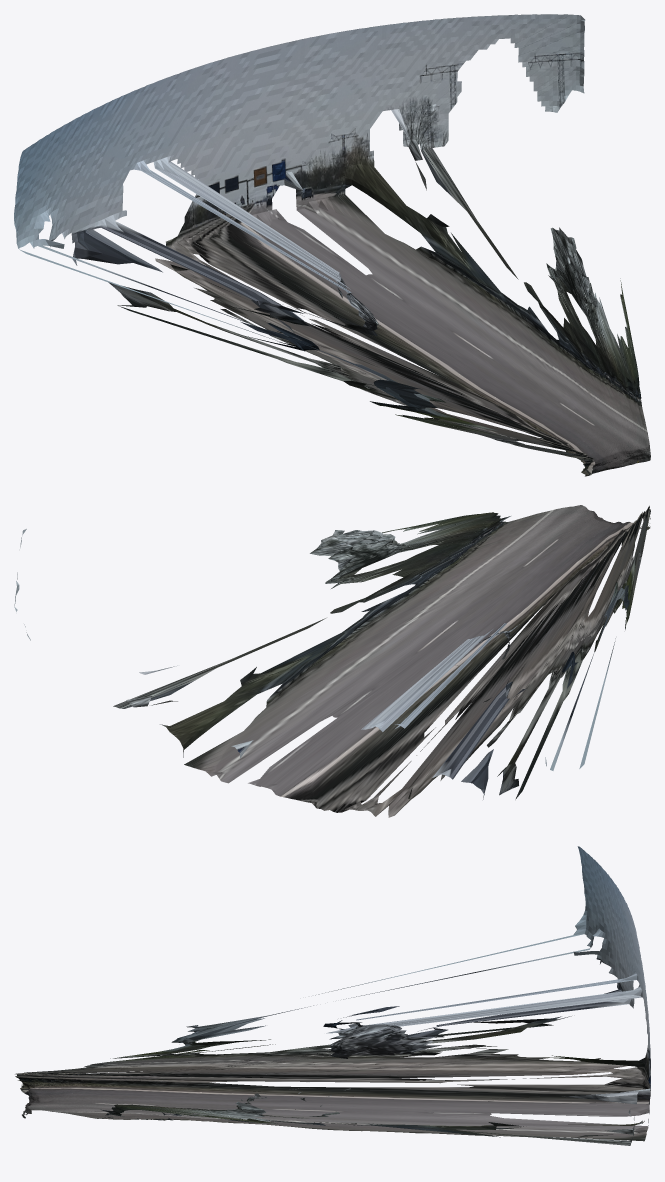
3 renders of one model, top to bottom at view 1: azimuth 30°, elevation 25°; view 2: azimuth 150°, elevation 25°; view 3: azimuth 270°, elevation 25°, orthographic. The views are drawn at different scales.
Parts seen in each view (by area): view 1: defaultobject; view 2: defaultobject; view 3: defaultobject.
Part boxes in pixels (x1,y1,x2,y2): defaultobject: [14, 14, 650, 476]; defaultobject: [14, 505, 650, 817]; defaultobject: [15, 846, 650, 1145].
Bounding box in the file's own units: 40.95 × 12.63 × 45.02.
Materials: 1 (1 with a texture image).
